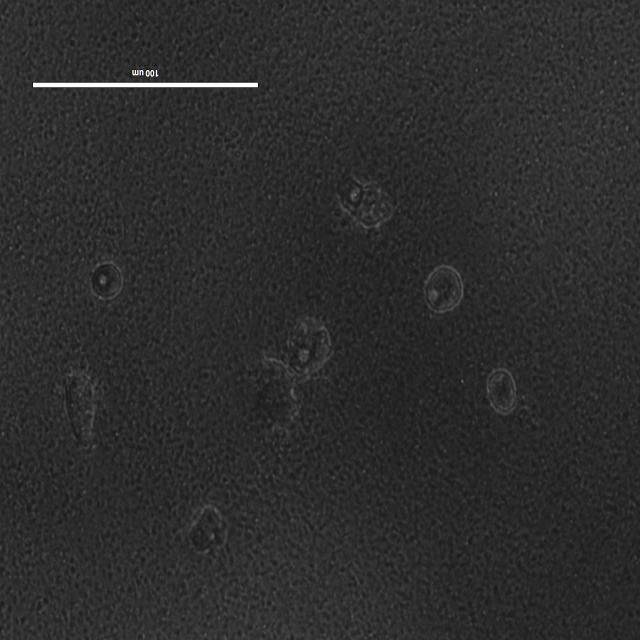Amoeba: (148, 217, 446, 600), (205, 120, 582, 305), (62, 355, 93, 453), (422, 260, 463, 314), (189, 503, 225, 556), (484, 368, 516, 417), (90, 260, 124, 302)
